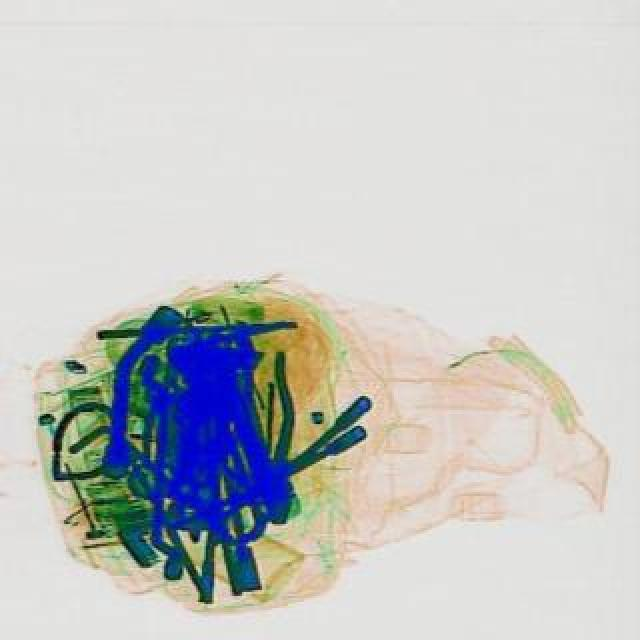wrench: (228, 346, 316, 526)
